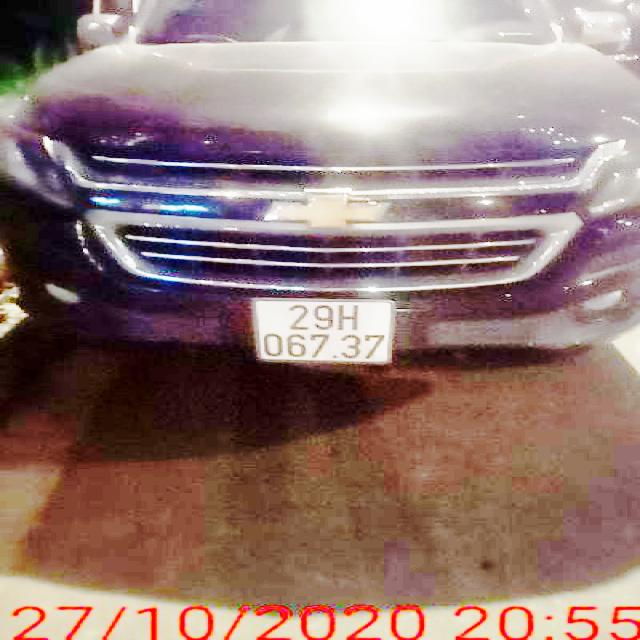license_plate: (260, 299, 390, 362)
